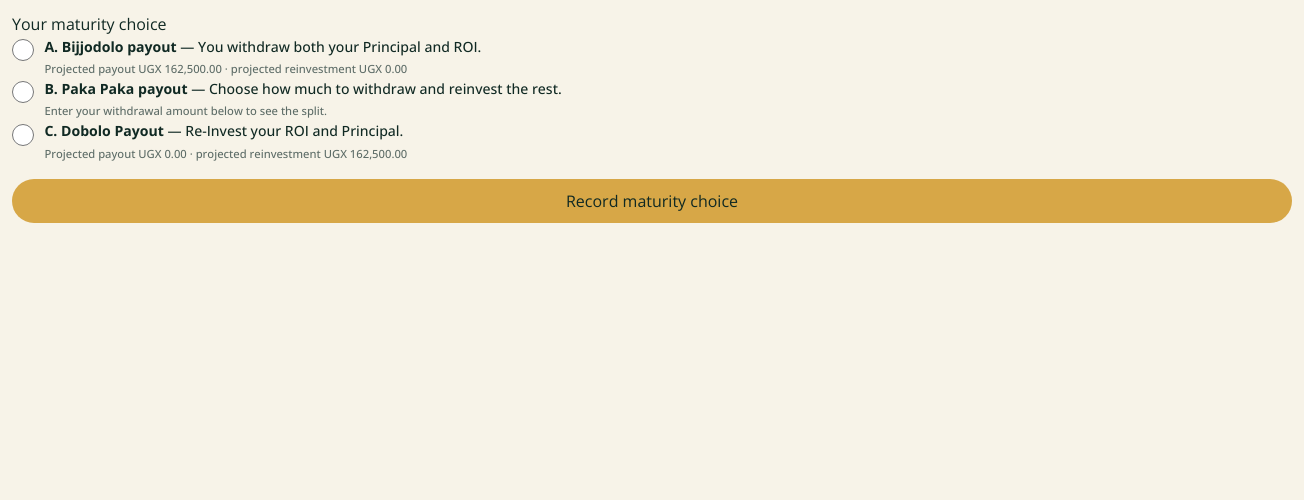
Test: automatic reinvestment cycle assignment › explains unavailability while keeping full withdrawal
Click the radio button labelled "C. Dobolo": x=23, y=135 [12,124,34,146]
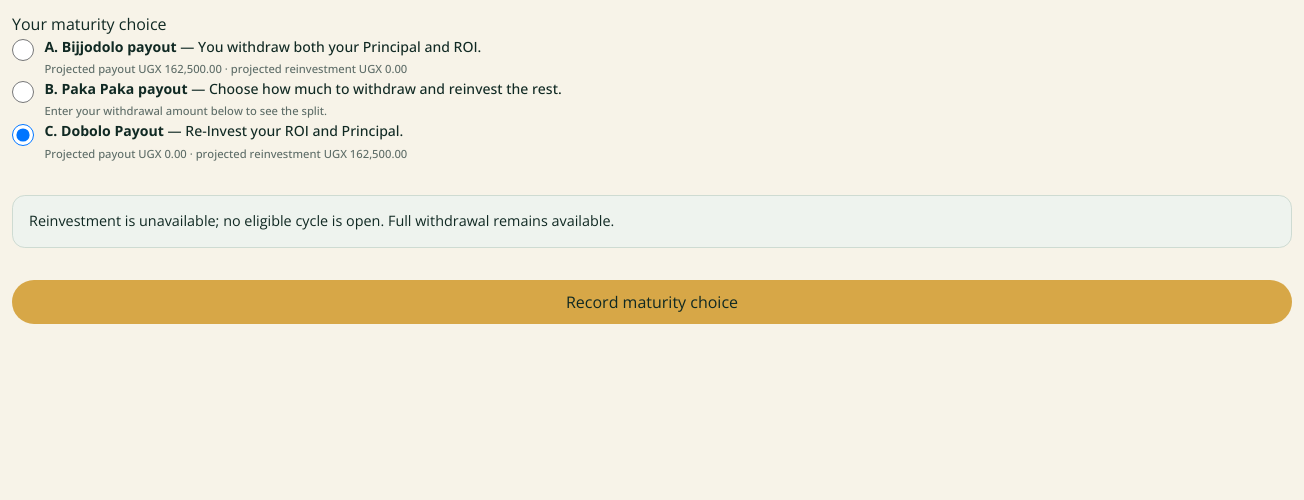
Now the text "Reinvestment is unavailable" is shown, box [29,211,614,230]
Click the radio button labelled "A. Bijjodolo": x=23, y=50 [12,39,34,61]
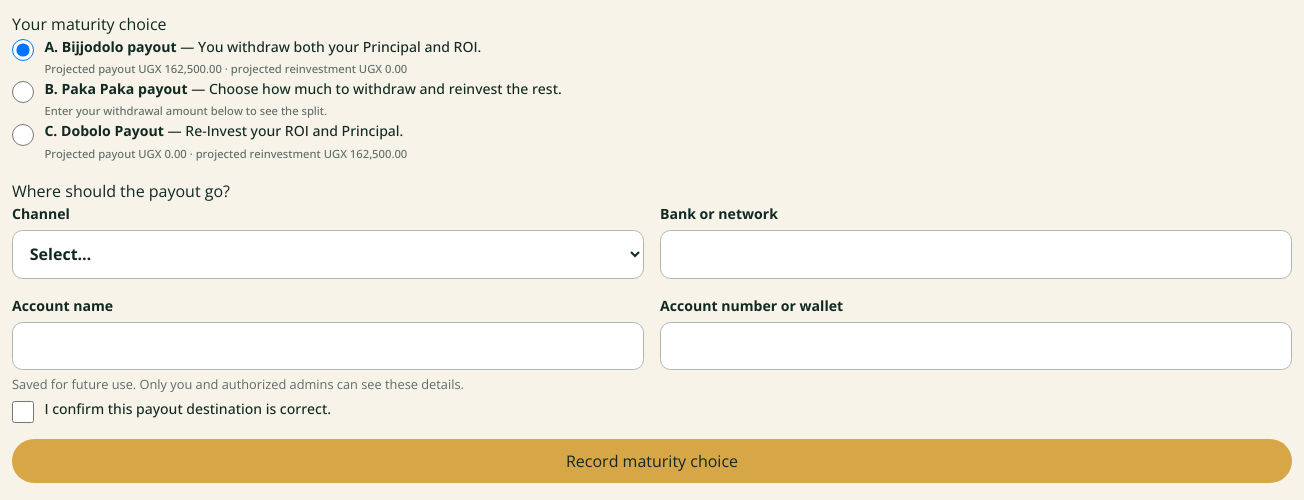
Now the text "Reinvestment is unavailable" is gone
